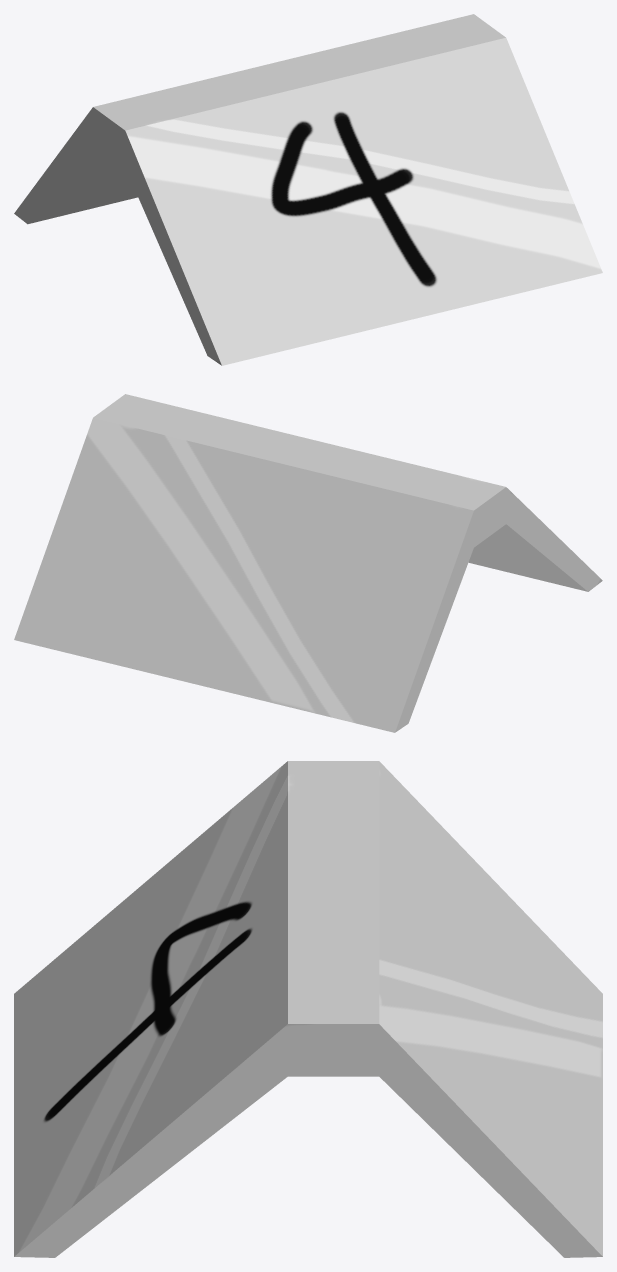
Rendered from MFC number card 4.fbx.
The picture shows the model from 3 angles, top to bottom: view 1: azimuth 30°, elevation 25°; view 2: azimuth 150°, elevation 25°; view 3: azimuth 270°, elevation 25°; orthographic projection. The views are drawn at different scales.
Parts seen in each view (by area): view 1: Cube; view 2: Cube; view 3: Cube.
Boxes of the visible parts, x1=… form: Cube: x1=14, y1=14, x2=602, y2=365; Cube: x1=14, y1=394, x2=602, y2=732; Cube: x1=14, y1=761, x2=602, y2=1257.
Size of the model in its own units: 104 by 43.05 by 98.27.
